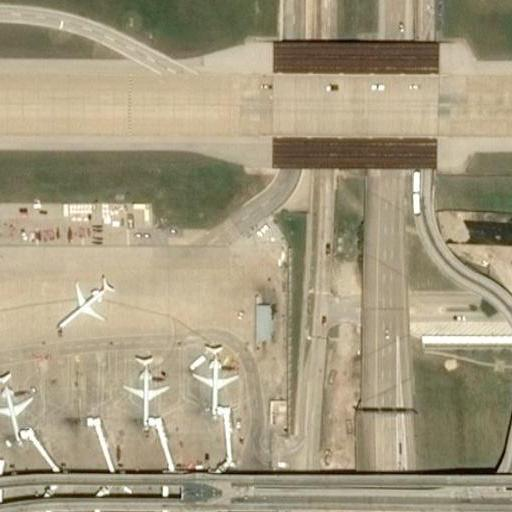Aircraft: (57, 272, 118, 330), (122, 358, 169, 424), (190, 344, 234, 406), (0, 368, 34, 435)
